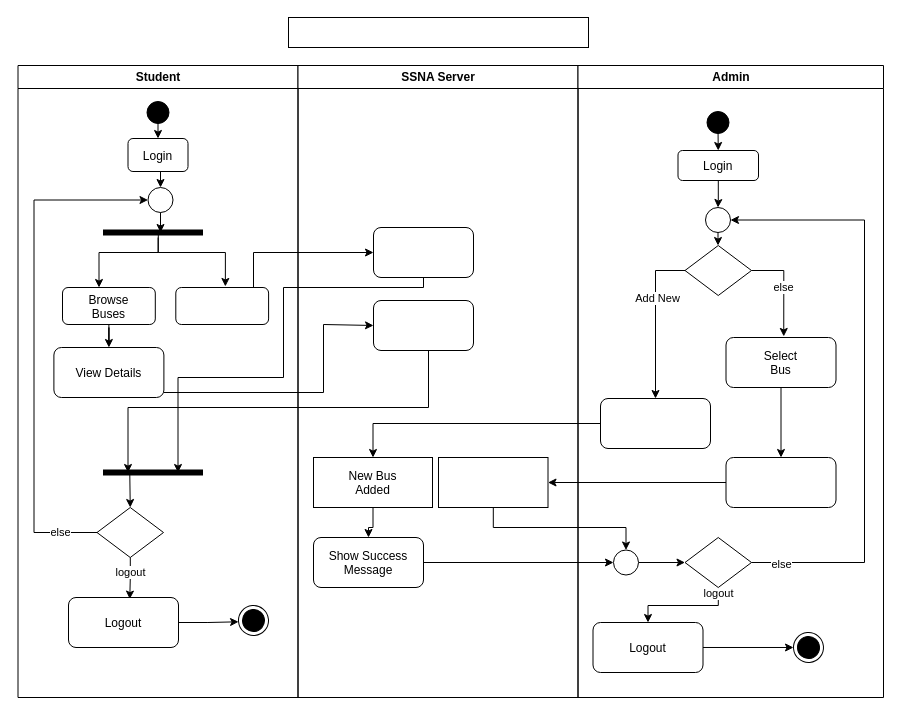
The diagram is 901 pixels wide and 715 high, and some of its shapes have lost their labels. Here are the shapes that lost their labels. From the top down, the centre of each, then its label:
At [438,32]: "Manage Buses".
At [423,252]: "Show Route Details".
At [222,305]: "Search Route".
At [423,325]: "Show Bus Details".
At [655,423]: "Add New Bus Details".
At [493,482]: "Remove/Update Bus".
At [780,482]: "Edit Bus".
